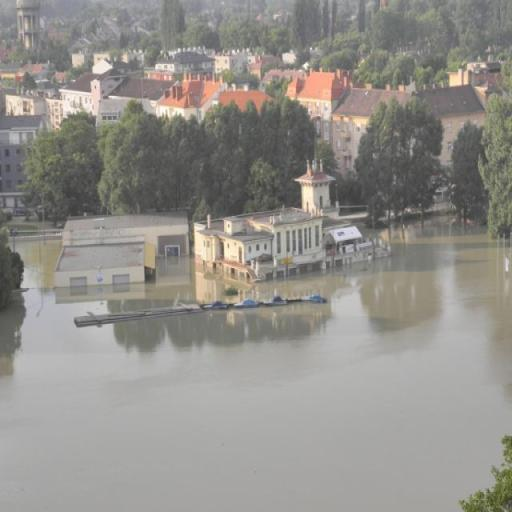flood: (0, 217, 512, 512)
house: (57, 210, 196, 292), (194, 206, 325, 280), (332, 86, 380, 167), (430, 84, 487, 137), (160, 78, 221, 118), (300, 65, 334, 129), (110, 75, 168, 109), (156, 48, 220, 76), (447, 59, 502, 90), (58, 72, 101, 110), (216, 89, 278, 112), (0, 144, 27, 196), (0, 114, 45, 145), (4, 89, 48, 117), (326, 226, 365, 250), (216, 54, 247, 73), (92, 60, 114, 77)
